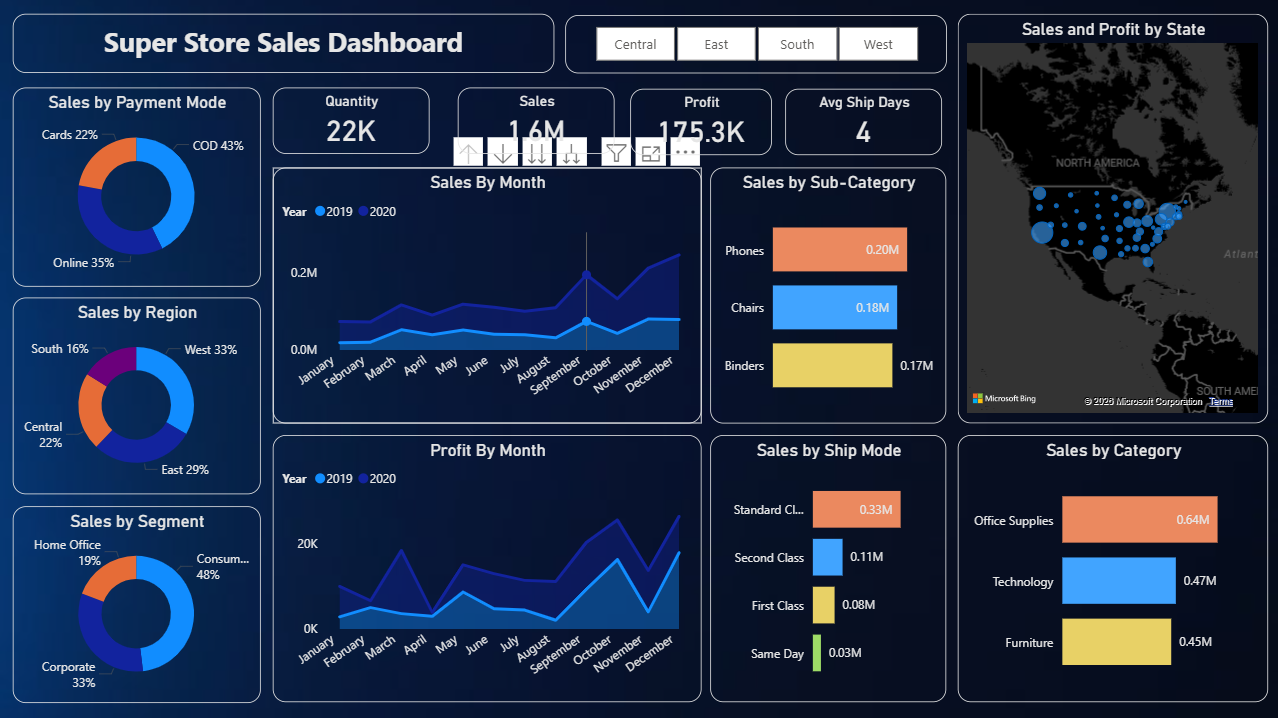

The dashboard page shown, as its layout file describes it:
{"tool":"powerbi","page":{"name":"Page 1","canvas":[1280,720],"ordinal":0},"visuals":[{"type":"clusteredBarChart","title":"Sales by Category","fields":{"Category":["SuperStore_Sales_Dataset.Category"],"Y":["Sum(SuperStore_Sales_Dataset.Sales)"]},"box":[959.3,434.9,310.5,267.4],"z":0},{"type":"clusteredBarChart","title":"Sales by Sub-Category","fields":{"Category":["SuperStore_Sales_Dataset.Sub-Category"],"Y":["Sum(SuperStore_Sales_Dataset.Sales)"]},"box":[711.6,167.4,236,255.8],"z":1000},{"type":"clusteredBarChart","title":"Sales by Ship Mode","fields":{"Category":["SuperStore_Sales_Dataset.Ship Mode"],"Y":["Sum(SuperStore_Sales_Dataset.Sales)"]},"box":[711.6,434.9,236,267.4],"z":2000},{"type":"stackedAreaChart","title":"Sales By Month","fields":{"Y":["Sum(SuperStore_Sales_Dataset.Sales)"],"Category":["SuperStore_Sales_Dataset.Order Date.Variation.Date Hierarchy.Month","SuperStore_Sales_Dataset.Order Date.Variation.Date Hierarchy.Day"],"Series":["SuperStore_Sales_Dataset.Order Date.Variation.Date Hierarchy.Year"]},"box":[273.3,167.4,429.1,255.8],"z":3000},{"type":"stackedAreaChart","title":"Profit By Month","fields":{"Category":["SuperStore_Sales_Dataset.Order Date.Variation.Date Hierarchy.Month","SuperStore_Sales_Dataset.Order Date.Variation.Date Hierarchy.Day"],"Series":["SuperStore_Sales_Dataset.Order Date.Variation.Date Hierarchy.Year"],"Y":["Sum(SuperStore_Sales_Dataset.Profit)"]},"box":[273.3,434.9,429.1,267.4],"z":4000},{"type":"map","title":"Sales and Profit by State","fields":{"Category":["SuperStore_Sales_Dataset.State"],"Size":["Sum(SuperStore_Sales_Dataset.Sales)"]},"box":[959.3,14,310.5,409.3],"z":5000},{"type":"donutChart","title":"Sales by Segment","fields":{"Category":["SuperStore_Sales_Dataset.Segment"],"Y":["Sum(SuperStore_Sales_Dataset.Sales)"]},"box":[14,505.8,247.7,196.5],"z":6000},{"type":"donutChart","title":"Sales by Payment Mode","fields":{"Category":["SuperStore_Sales_Dataset.Payment Mode"],"Y":["Sum(SuperStore_Sales_Dataset.Sales)"]},"box":[14,87.2,247.7,198.8],"z":7000},{"type":"donutChart","title":"Sales by Region","fields":{"Category":["SuperStore_Sales_Dataset.Region"],"Y":["Sum(SuperStore_Sales_Dataset.Sales)"]},"box":[14,297.7,247.7,196.5],"z":8000},{"type":"slicer","fields":{"Values":["SuperStore_Sales_Dataset.Region"]},"box":[566.3,15.1,381.4,58.1],"z":9000},{"type":"textbox","box":[14,14,541.9,59.3],"z":10000},{"type":"card","title":"Sales","fields":{"Values":["Sum(SuperStore_Sales_Dataset.Sales)"]},"box":[458.1,87.2,157,66.3],"z":11000},{"type":"card","title":"Quantity","fields":{"Values":["Sum(SuperStore_Sales_Dataset.Quantity)"]},"box":[273.3,87.2,157,66.3],"z":12000},{"type":"card","title":"Profit","fields":{"Values":["Sum(SuperStore_Sales_Dataset.Profit)"]},"box":[631.4,88.4,141.9,66.3],"z":13000},{"type":"card","title":"Avg Ship Days","fields":{"Values":["Avg(SuperStore_Sales_Dataset.AvgDeliveryDay)"]},"box":[786,88.4,157,66.3],"z":14000}]}

Visuals, with their boxes in screenshot pixels (x1, y1, x2, y2), scaled from the page's 1280x720 canvas onto the 1278x718 screenshot:
"Sales by Category" clusteredBarChart: [958, 434, 1268, 700]
"Sales by Sub-Category" clusteredBarChart: [710, 167, 946, 422]
"Sales by Ship Mode" clusteredBarChart: [710, 434, 946, 700]
"Sales By Month" stackedAreaChart: [273, 167, 701, 422]
"Profit By Month" stackedAreaChart: [273, 434, 701, 700]
"Sales and Profit by State" map: [958, 14, 1268, 422]
"Sales by Segment" donutChart: [14, 504, 261, 700]
"Sales by Payment Mode" donutChart: [14, 87, 261, 285]
"Sales by Region" donutChart: [14, 297, 261, 493]
slicer - SuperStore_Sales_Dataset.Region: [565, 15, 946, 73]
textbox: [14, 14, 555, 73]
"Sales" card: [457, 87, 614, 153]
"Quantity" card: [273, 87, 430, 153]
"Profit" card: [630, 88, 772, 154]
"Avg Ship Days" card: [785, 88, 942, 154]
